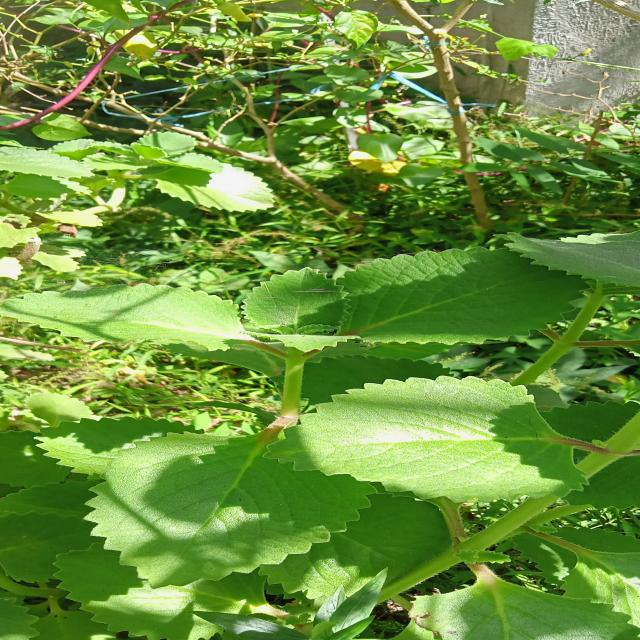Oregano: (63, 418, 394, 594), (49, 260, 640, 349), (282, 371, 619, 518)
